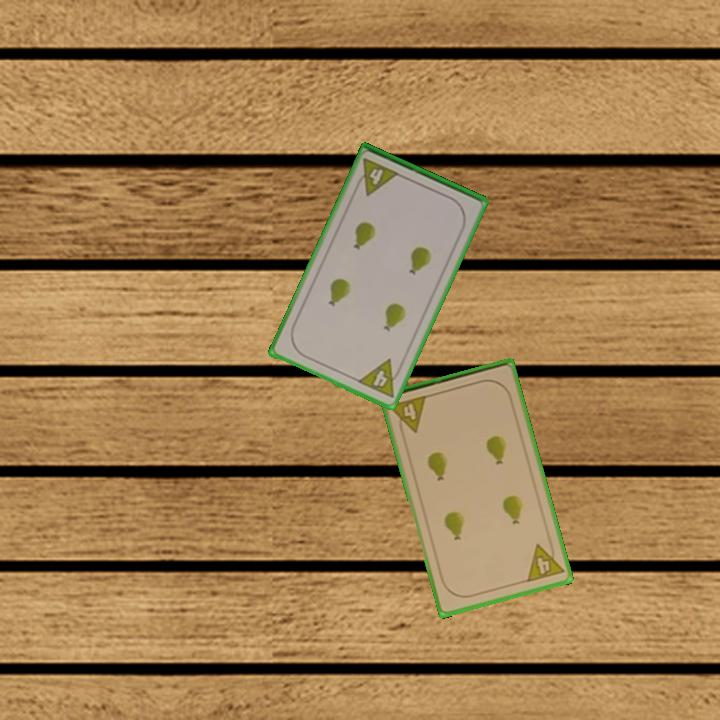4p: (354, 355, 406, 401), (351, 155, 402, 199), (523, 537, 567, 585), (386, 392, 430, 438)
